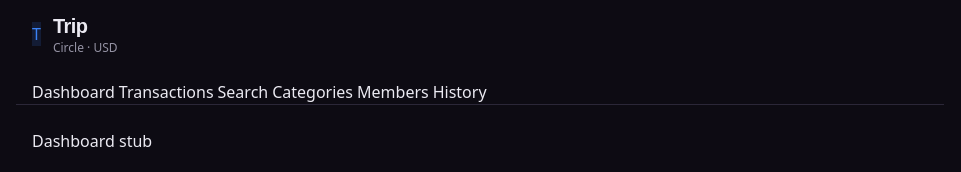
Test: CircleLayout shell skeleton › does not flash a skeleton for a fast navigation (flicker guard)
The image size is (961, 172).
Expected: the heading "Dashboard stub" is shown, [32, 130, 152, 152]
Click the link "Transactions".
click(166, 92)  # box [119, 80, 214, 104]
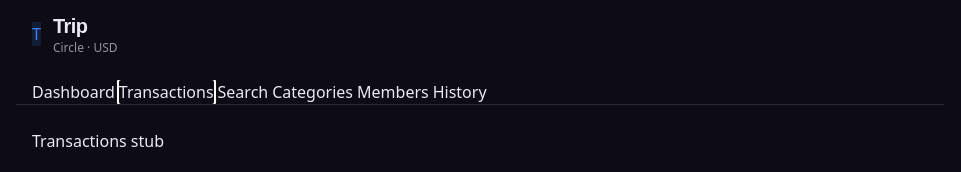
Now the heading "Transactions stub" is shown, box [32, 130, 164, 152]
